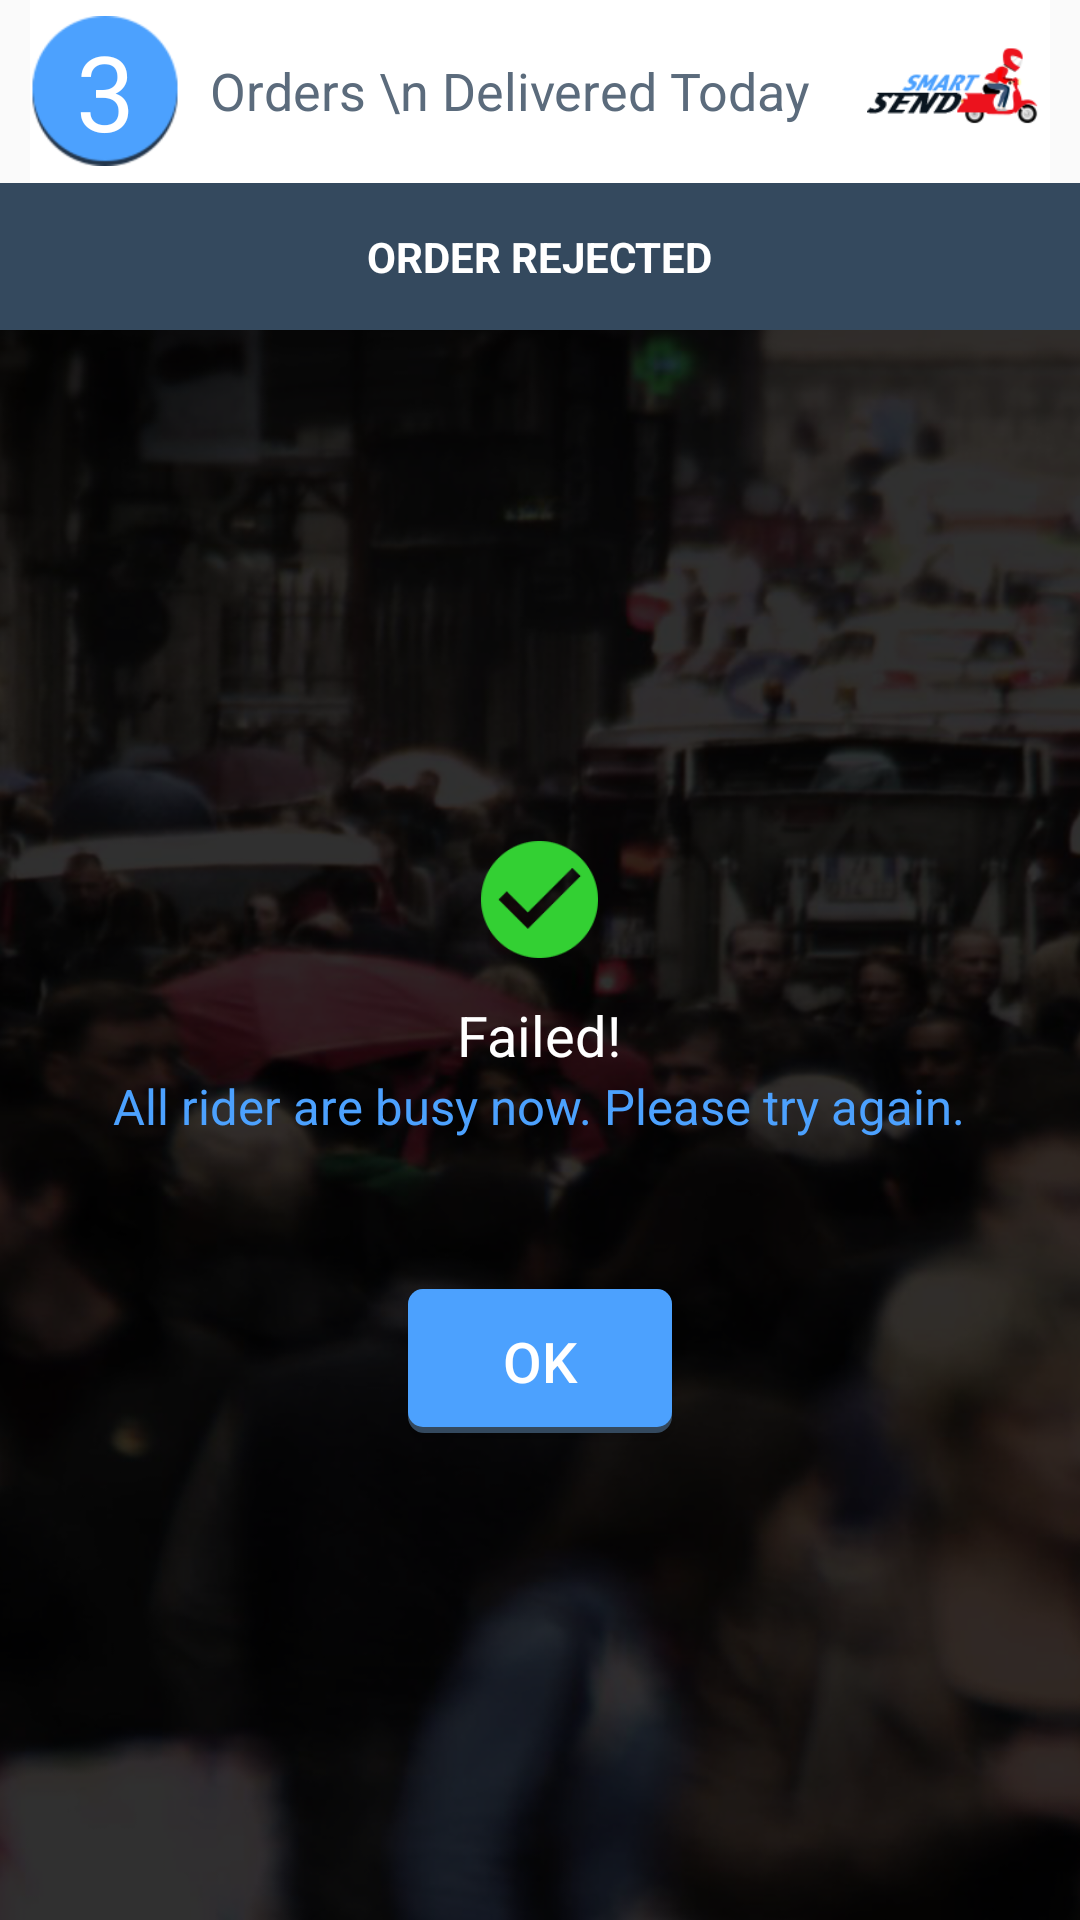

Screen size 1080 x 1920. Icon name, then its center in pixels as point (x, y):
tick: point (551, 899)
